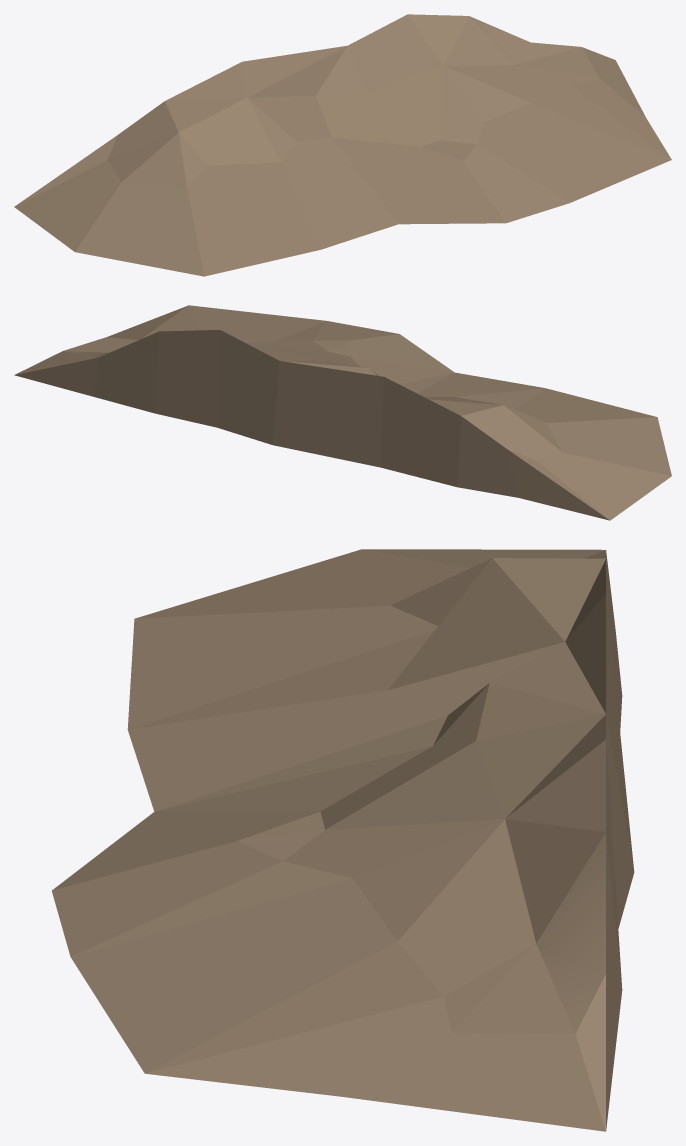
File: SM_Env_SandEdge_04.fbx
The picture shows the model from 3 angles, top to bottom: view 1: azimuth 30°, elevation 25°; view 2: azimuth 150°, elevation 25°; view 3: azimuth 270°, elevation 25°; orthographic projection. The views are drawn at different scales.
Visible parts, largest first — view 1: SM_Env_SandEdge_04; view 2: SM_Env_SandEdge_04; view 3: SM_Env_SandEdge_04.
Boxes of the visible parts, x1,y1,x2,y2 form: SM_Env_SandEdge_04: [14, 14, 671, 276]; SM_Env_SandEdge_04: [14, 305, 671, 520]; SM_Env_SandEdge_04: [52, 549, 634, 1131].
Size of the model in its own units: 812 by 124 by 343.
